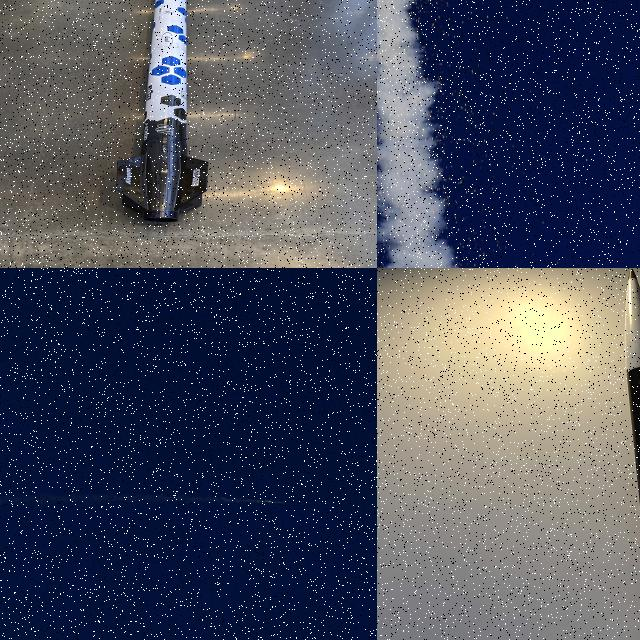Rocket: (116, 0, 209, 223), (269, 498, 286, 504)
